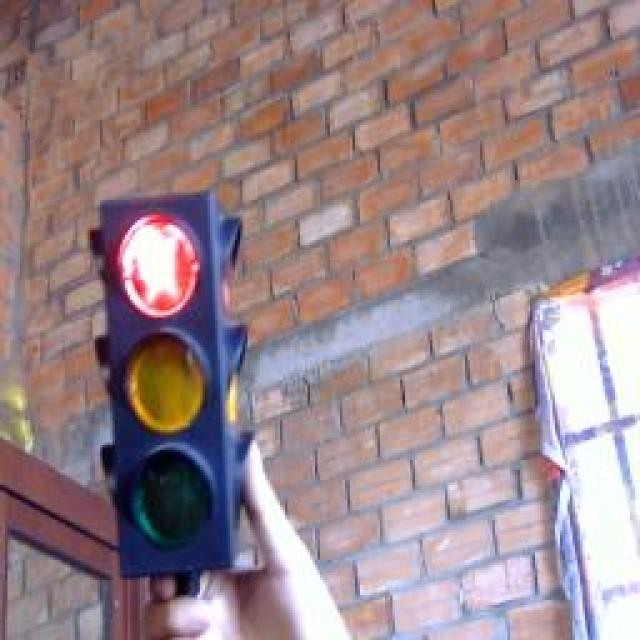-: (113, 214, 208, 326)
